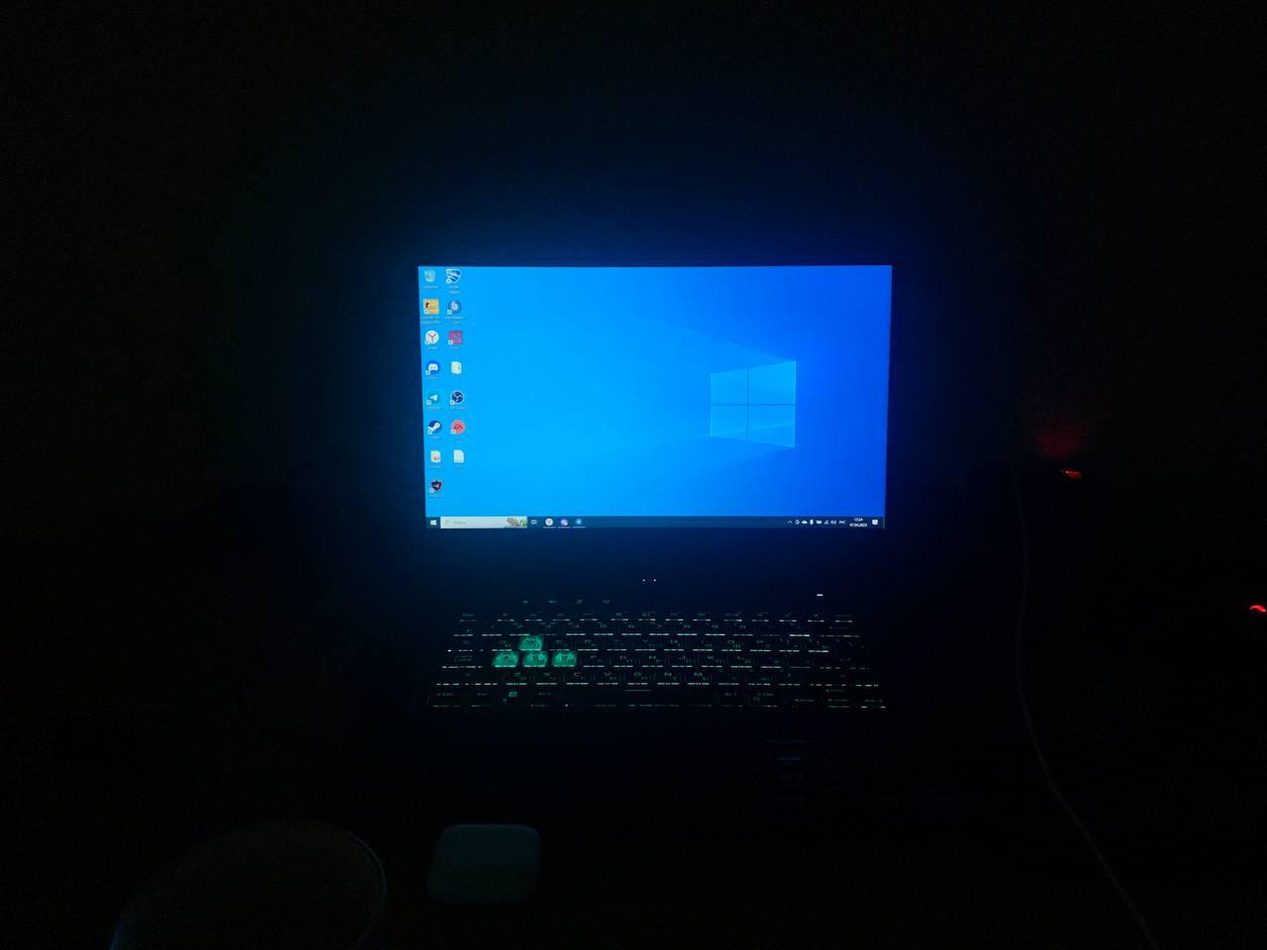monitor: (402, 247, 911, 565)
